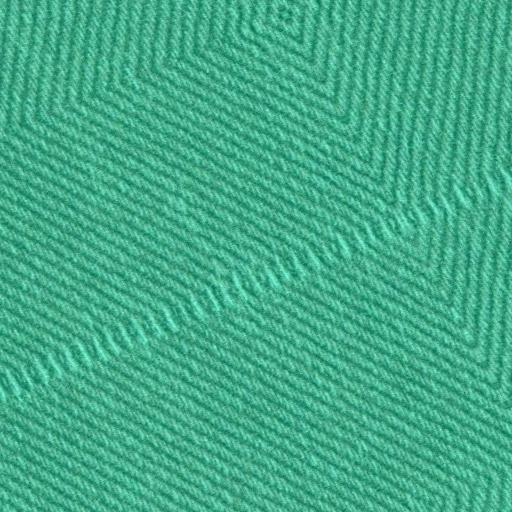slub: (0, 164, 512, 406)
